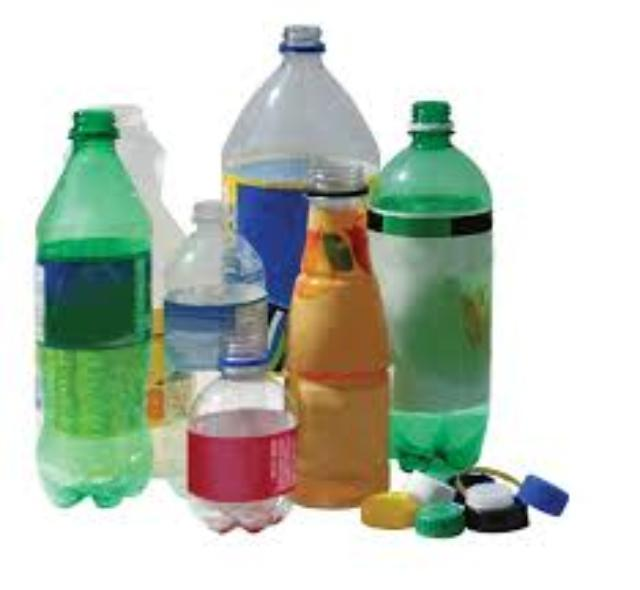plastic: (221, 26, 380, 371), (369, 98, 490, 479), (36, 109, 150, 506), (284, 159, 388, 509), (164, 204, 267, 489), (186, 334, 303, 534)
